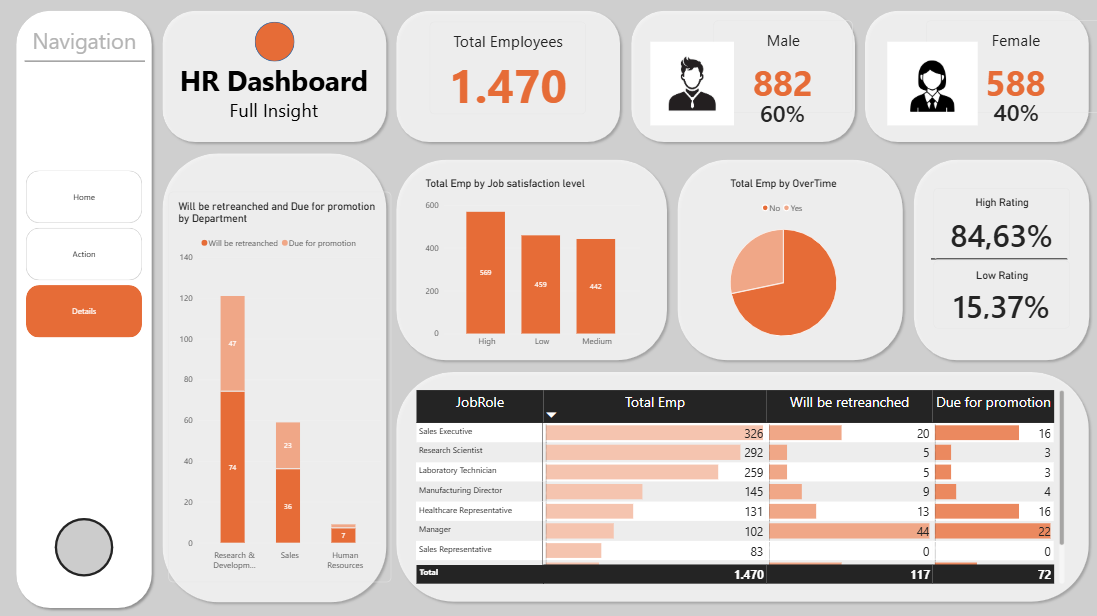

Layout of this report page (visuals, bound fields, positions):
{"tool":"powerbi","page":{"name":"Details","canvas":[1920,1080],"ordinal":2},"visuals":[{"type":"card","title":"Male","fields":{"Values":["All Measures.Male"]},"box":[1241.7,40,240.4,160.3],"z":0,"group":"g2"},{"type":"card","title":"Female","fields":{"Values":["All Measures.Female"]},"box":[1610,40,310,160],"z":0,"group":"g1"},{"type":"shape","box":[1579.8,270.6,322,365.9],"z":0},{"type":"card","fields":{"Values":["All Measures.% Female"]},"box":[1693.3,153.3,143.8,91.2],"z":1000,"group":"g1"},{"type":"card","fields":{"Values":["All Measures.% Male"]},"box":[1289.9,153.7,143.8,91.2],"z":1000,"group":"g2"},{"type":"shape","box":[684.9,639.5,1217,415.7],"z":1000},{"type":"shape","box":[25.3,13.3,252.7,1052.1],"z":2000},{"type":"shape","box":[278.3,13.5,405.5,245.4],"z":3000},{"type":"shape","box":[684.4,13.5,405.5,245.4],"z":4000},{"type":"shape","box":[1496.5,13.5,405.5,245.4],"z":5000},{"type":"shape","box":[1090.4,13.5,405.5,245.4],"z":6000},{"type":"textbox","box":[285.8,109.2,390.6,106.3],"z":7000},{"type":"shape","box":[447.5,40.4,68.8,68.8],"z":8000},{"type":"card","title":"Total Employees","fields":{"Values":["All Measures.Total Emp"]},"box":[750.9,40.1,270.1,160.3],"z":9000},{"type":"group","id":"g1","title":"Group 1","box":[1610,40,310,205],"z":10000},{"type":"group","id":"g2","title":"Group 2","box":[1241.7,40,240,205],"z":11000},{"type":"shape","box":[1543.3,75,156.7,145],"z":12000},{"type":"image","box":[1130,75,151.7,145],"z":13000},{"type":"image","box":[1554.8,107.7,134.3,89.1],"z":14000},{"type":"shape","box":[279.3,259.4,405.7,795.4],"z":15000},{"type":"columnChart","fields":{"Category":["HR Analytics Data.Department"],"Y":["All Measures.Will be retreanched","All Measures.Due for promotion"]},"box":[297.8,335.6,385.5,675.8],"z":16000},{"type":"shape","box":[684.9,270.6,486.8,365.9],"z":17000},{"type":"shape","box":[1171.7,270.6,408.2,365.9],"z":18000},{"type":"clusteredColumnChart","fields":{"Category":["HR Analytics Data.Job satisfaction level"],"Y":["All Measures.Total Emp"]},"box":[727.2,296.3,403.7,328.1],"z":19000},{"type":"pieChart","fields":{"Category":["HR Analytics Data.OverTime"],"Y":["All Measures.Total Emp"]},"box":[1159.6,296.3,406.7,328.1],"z":20000},{"type":"shape","box":[1619.1,323.5,235.8,258.5],"z":21000},{"type":"pivotTable","fields":{"Rows":["HR Analytics Data.JobRole"],"Values":["All Measures.Total Emp","All Measures.Will be retreanched","All Measures.Due for promotion"]},"box":[712.1,665.2,1153.5,365.9],"z":22000},{"type":"card","title":"High Rating","fields":{"Values":["All Measures.% High Rating"]},"box":[1622.2,329.6,235.8,124],"z":23000},{"type":"card","title":"Low Rating","fields":{"Values":["All Measures.% Low Rating"]},"box":[1622.2,453.5,235.8,117.9],"z":24000},{"type":"pageNavigator","box":[51.9,298.7,201.3,290],"z":25000},{"type":"shape","box":[49.8,2.2,207.8,214.3],"z":26000},{"type":"shape","box":[101.3,899.4,101.3,101.3],"z":27000},{"type":"textbox","box":[62.8,47.6,216.4,62.8],"z":27001}]}

Visuals, with their boxes in screenshot pixels (x1, y1, x2, y2), scaled from the page's 1920x1080 canvas onto the 1097x616 screenshot:
"Male" card: (x1=709, y1=23, x2=847, y2=114)
"Female" card: (x1=920, y1=23, x2=1096, y2=114)
shape: (x1=903, y1=154, x2=1087, y2=363)
card - All Measures.% Female: (x1=967, y1=87, x2=1050, y2=139)
card - All Measures.% Male: (x1=737, y1=88, x2=819, y2=140)
shape: (x1=391, y1=365, x2=1087, y2=602)
shape: (x1=14, y1=8, x2=159, y2=608)
shape: (x1=159, y1=8, x2=391, y2=148)
shape: (x1=391, y1=8, x2=623, y2=148)
shape: (x1=855, y1=8, x2=1087, y2=148)
shape: (x1=623, y1=8, x2=855, y2=148)
textbox: (x1=163, y1=62, x2=386, y2=123)
shape: (x1=256, y1=23, x2=295, y2=62)
"Total Employees" card: (x1=429, y1=23, x2=583, y2=114)
"Group 1" group: (x1=920, y1=23, x2=1096, y2=140)
"Group 2" group: (x1=709, y1=23, x2=847, y2=140)
shape: (x1=882, y1=43, x2=971, y2=125)
image: (x1=646, y1=43, x2=732, y2=125)
image: (x1=888, y1=61, x2=965, y2=112)
shape: (x1=160, y1=148, x2=391, y2=602)
columnChart - HR Analytics Data.Department x All Measures.Will be retreanched: (x1=170, y1=191, x2=390, y2=577)
shape: (x1=391, y1=154, x2=669, y2=363)
shape: (x1=669, y1=154, x2=903, y2=363)
clusteredColumnChart - HR Analytics Data.Job satisfaction level x All Measures.Total Emp: (x1=415, y1=169, x2=646, y2=356)
pieChart - HR Analytics Data.OverTime x All Measures.Total Emp: (x1=663, y1=169, x2=895, y2=356)
shape: (x1=925, y1=185, x2=1060, y2=332)
pivotTable - HR Analytics Data.JobRole x All Measures.Total Emp: (x1=407, y1=379, x2=1066, y2=588)
"High Rating" card: (x1=927, y1=188, x2=1062, y2=259)
"Low Rating" card: (x1=927, y1=259, x2=1062, y2=326)
pageNavigator: (x1=30, y1=170, x2=145, y2=336)
shape: (x1=28, y1=1, x2=147, y2=123)
shape: (x1=58, y1=513, x2=116, y2=571)
textbox: (x1=36, y1=27, x2=160, y2=63)
